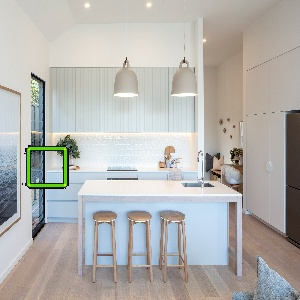square: (23, 144, 72, 191)
